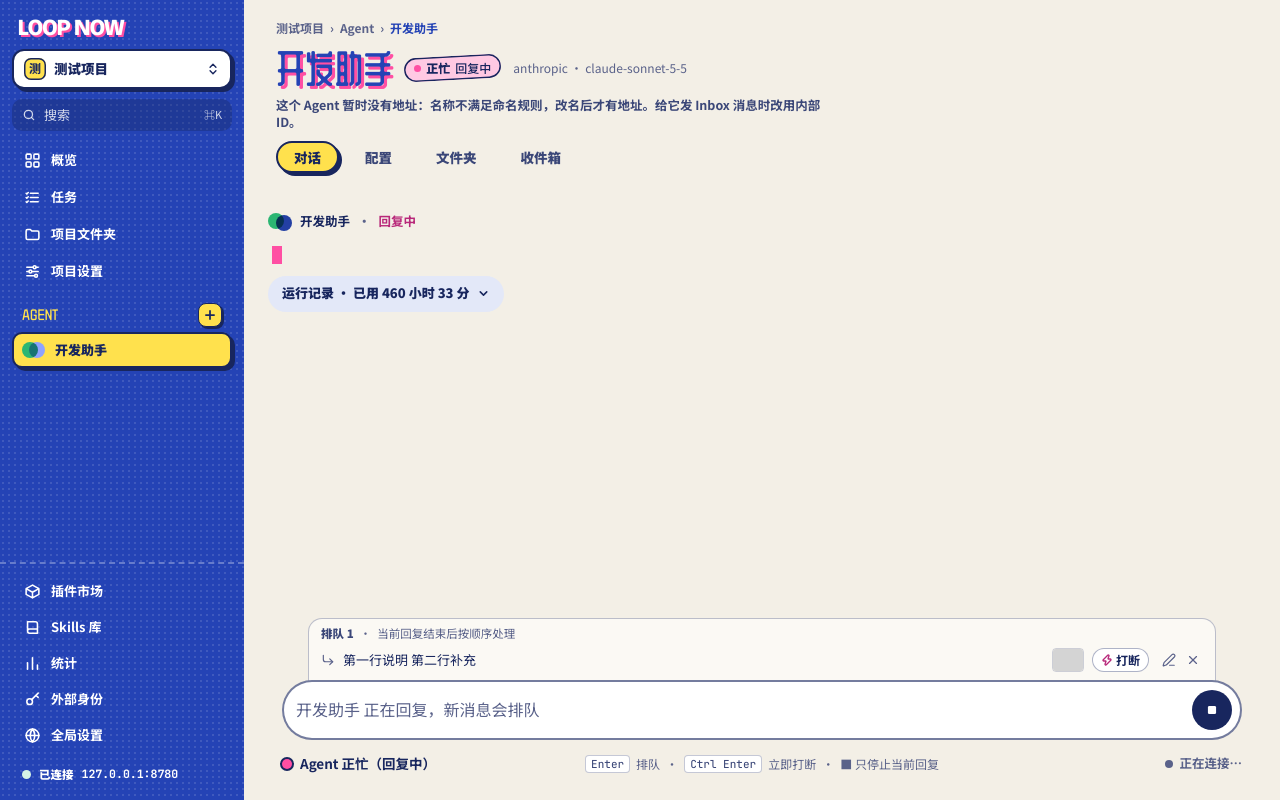
Test: 输入框上方的排队托盘 › 正文截成一行，悬停可见全文，点击展开；图片显示缩略图
expect the element showing "开发助手 · 回复中 运行记录 · 已用 460 小时 33 分" is shown: met, box [268,213,504,312]
Click the button "第一行说明 第二行补充": (409, 660) [343,645,1044,675]
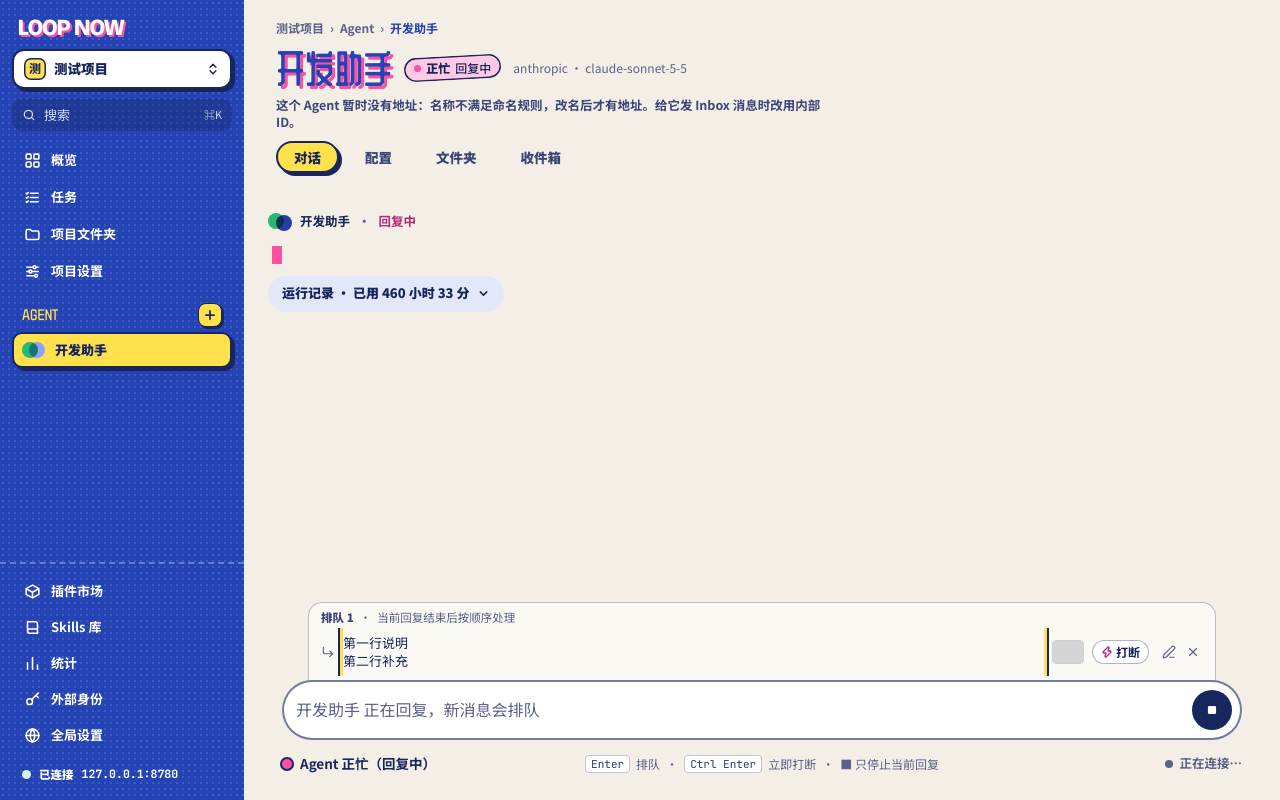
expect the button "第一行说明 第二行补充" is expanded: met, box [343,628,1044,676]
